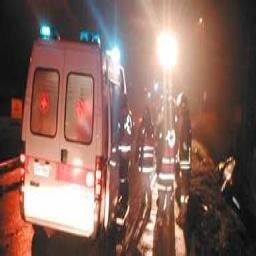Ambulance: (21, 26, 125, 237)
